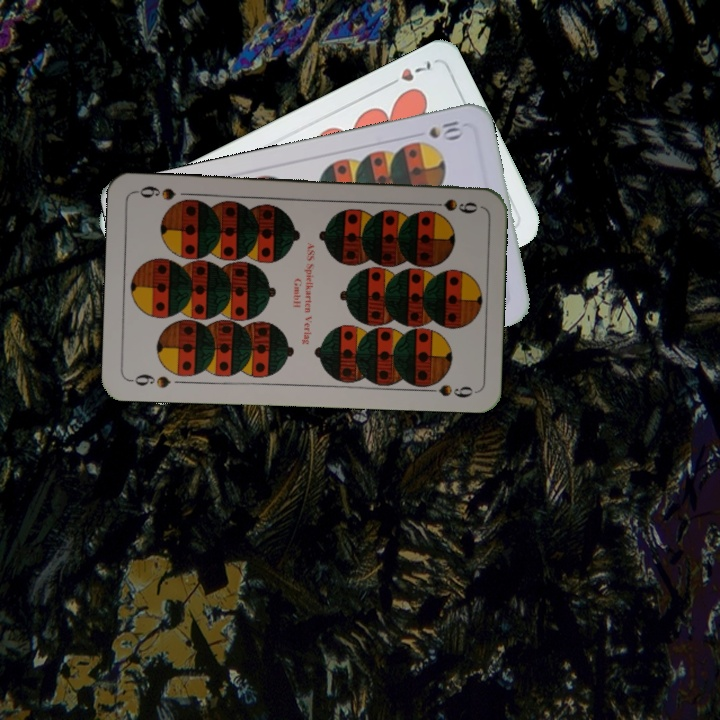H7: (381, 56, 434, 90)
S10: (425, 115, 466, 142)
S9: (422, 195, 480, 216), (126, 370, 173, 391)
